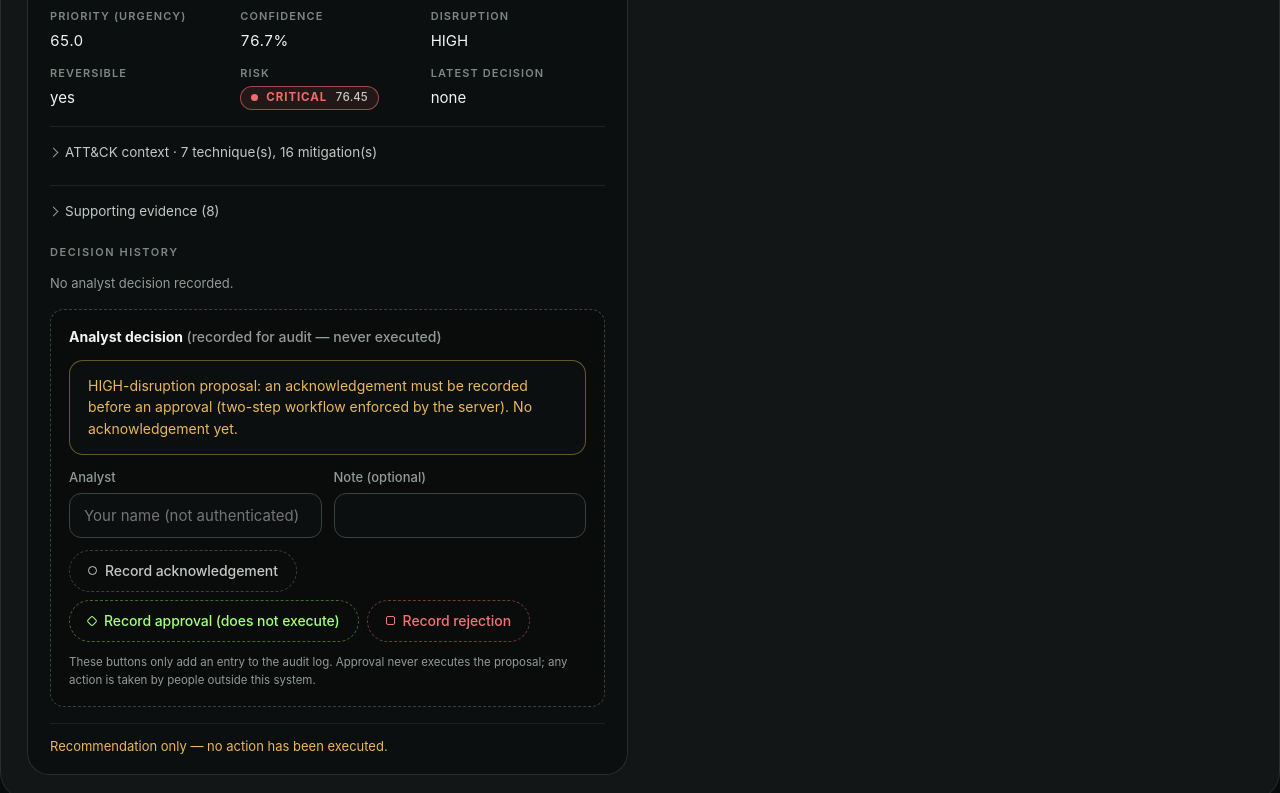
Scenario: analyst decision workflow › surfaces the server's 409 two-step rule, then records acknowledge and approve
(page scrolled)
Step 1. Type "analyst-1" into the field labelled "Analyst" → (195, 515), box [69,493,322,538]
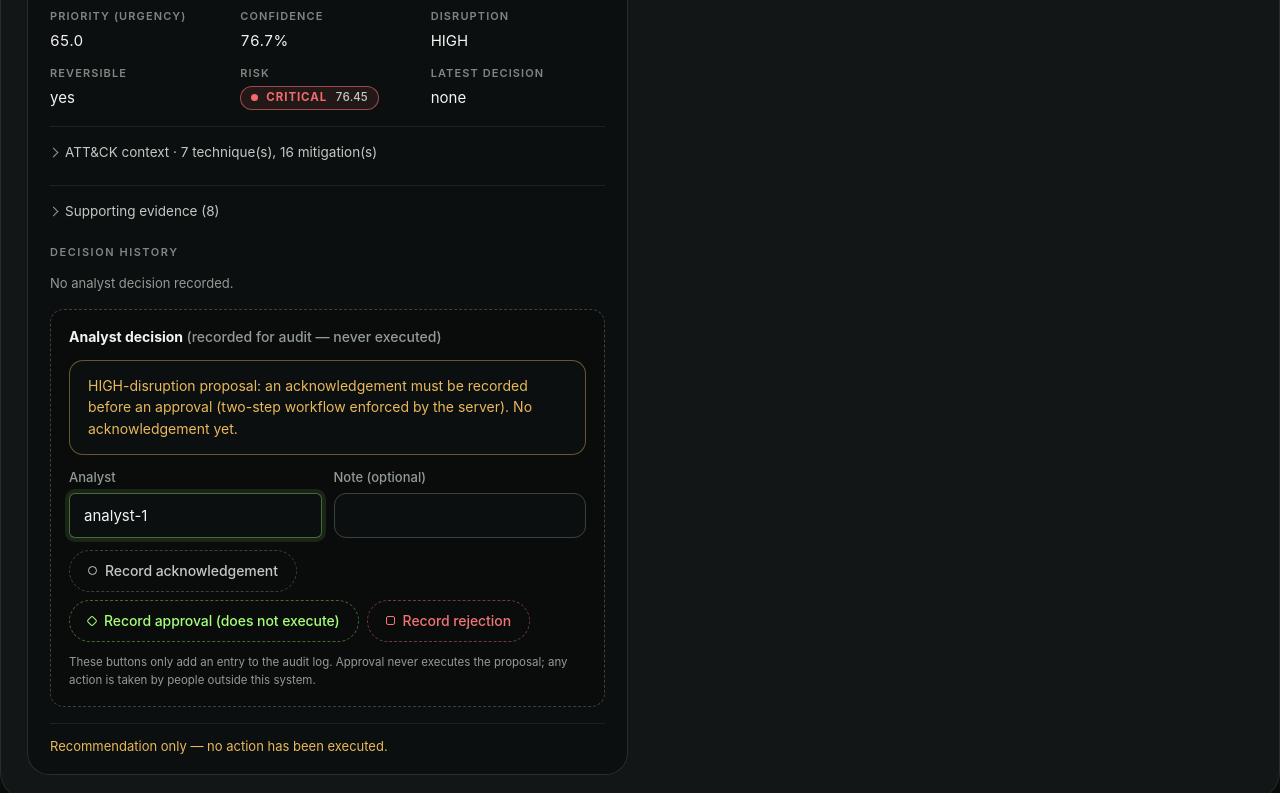
Step 2. Click the button "Record approval (does not execute)" → (214, 621), box [69,600,359,642]
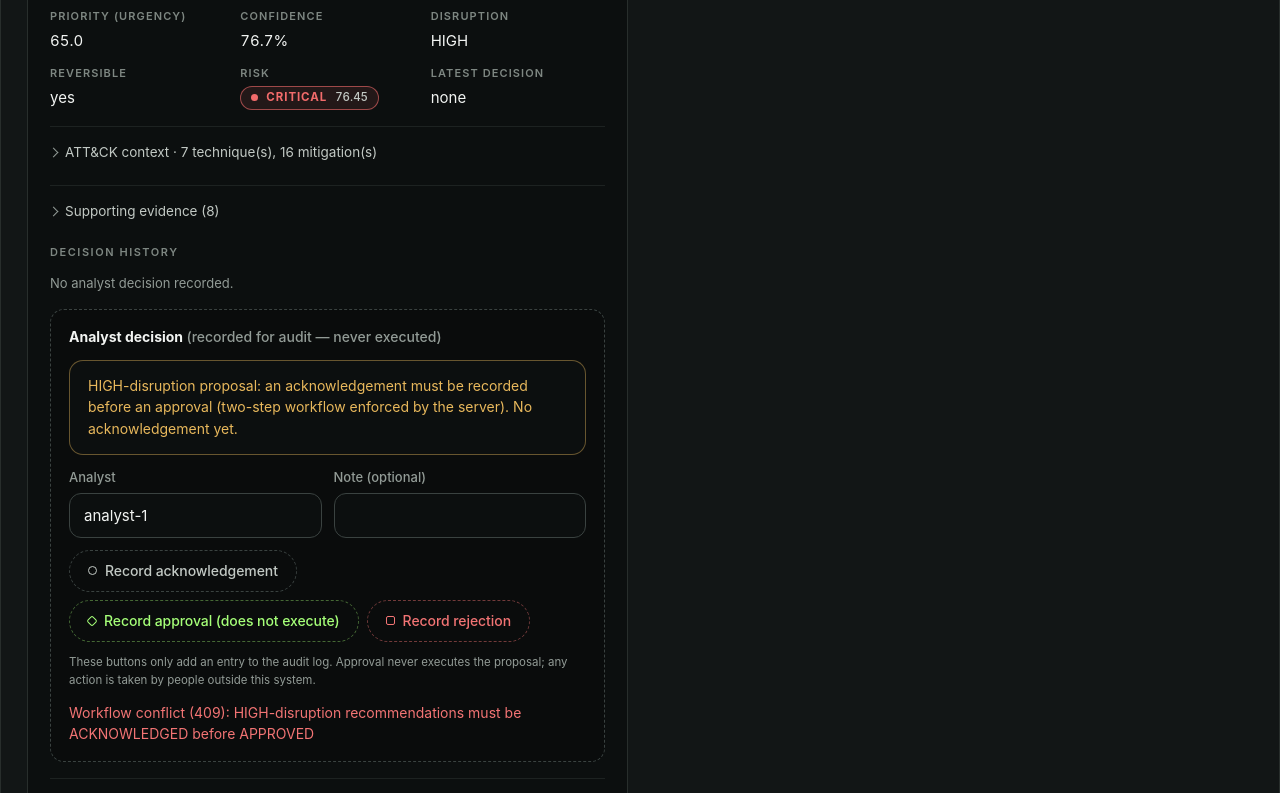
Check: the message shows "Workflow conflict (409)", box [69,704,234,721]
Check: the message shows "must be ACKNOWLEDGED before APPROVED", box [69,704,521,742]
Step 3. Click the button "Record acknowledgement" → (183, 571), box [69,550,297,592]
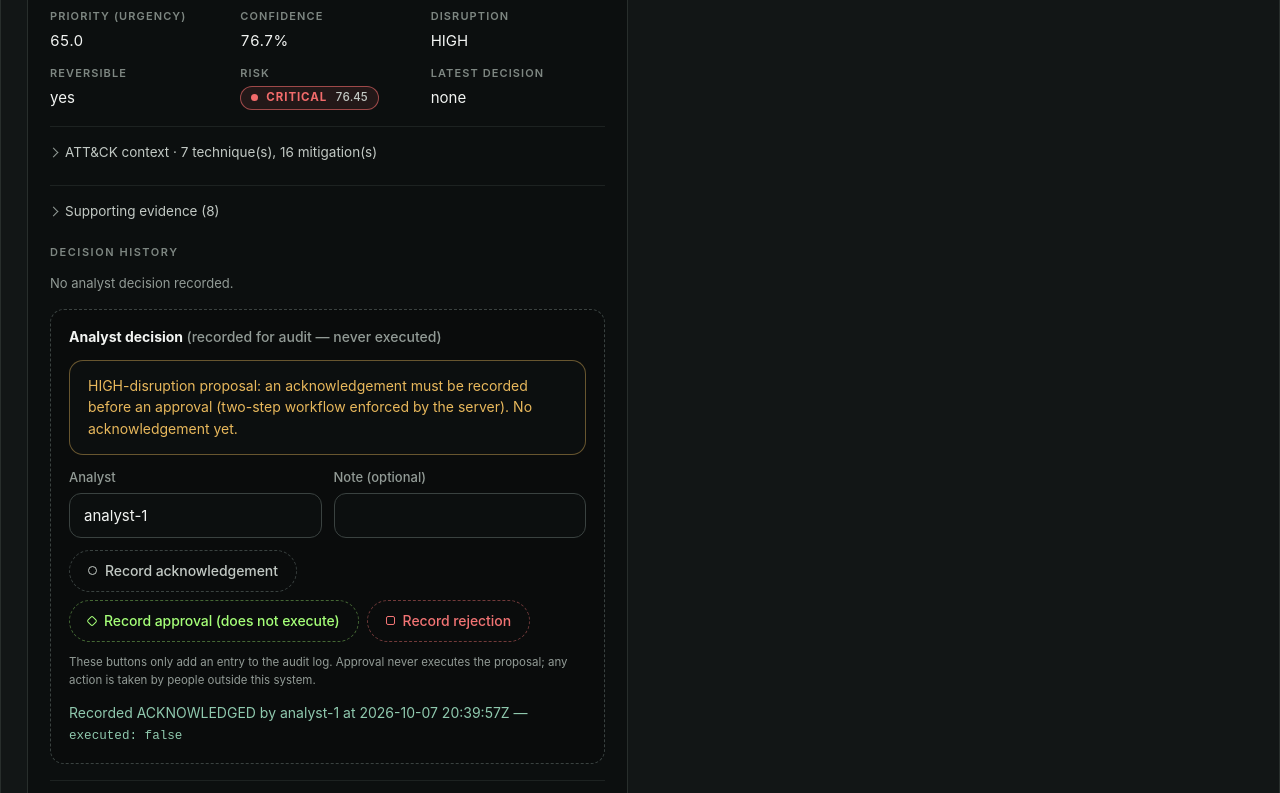
Check: the message shows "Recorded ACKNOWLEDGED by analyst-1", box [69,702,586,747]
Check: the message shows "executed: false", box [69,729,182,743]
Step 4. Click the button "Record approval (does not execute)" → (214, 621), box [69,600,359,642]
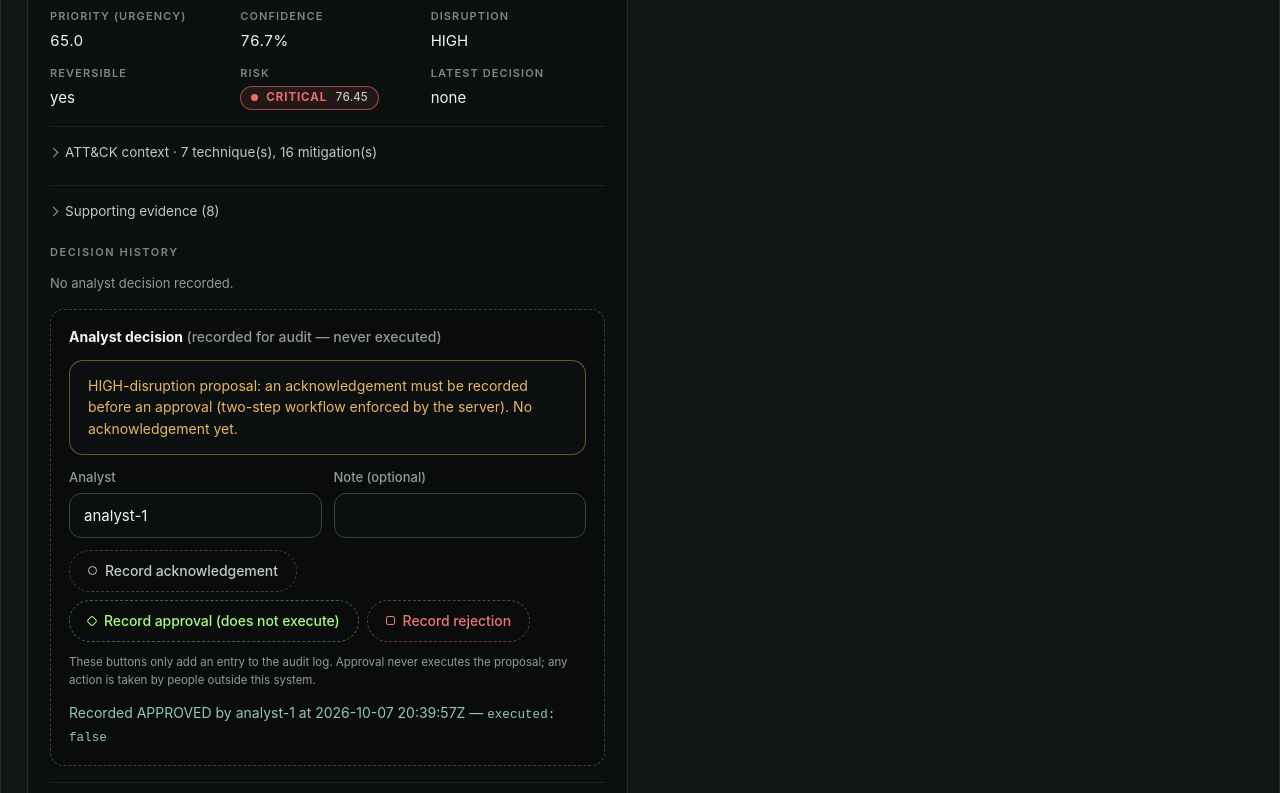
Check: the message shows "Recorded APPROVED", box [69,702,586,749]
